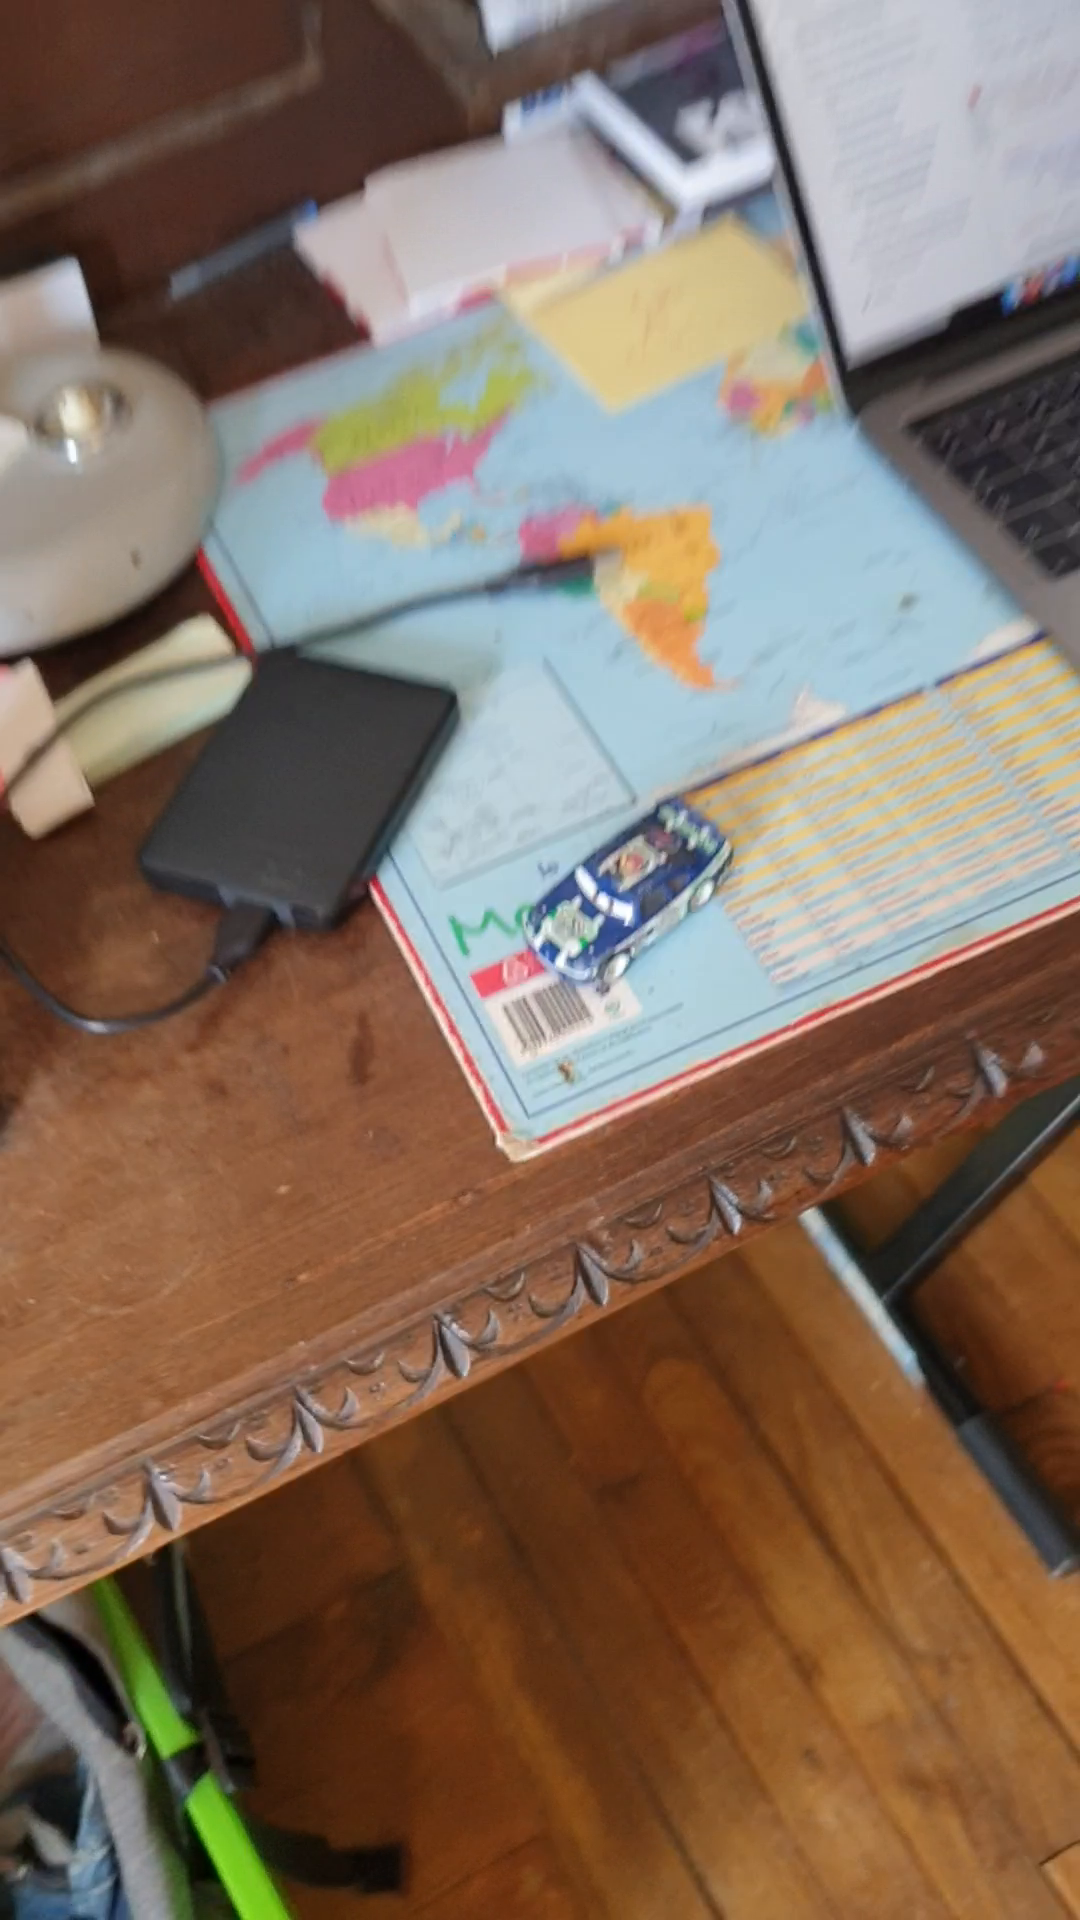cars: (514, 793, 731, 986)
